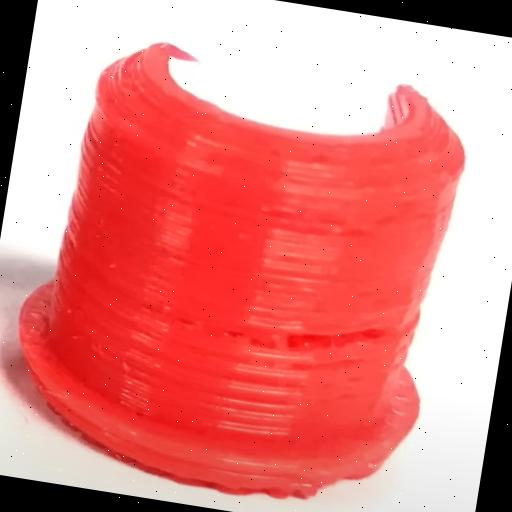cracks: (196, 282, 440, 390)
